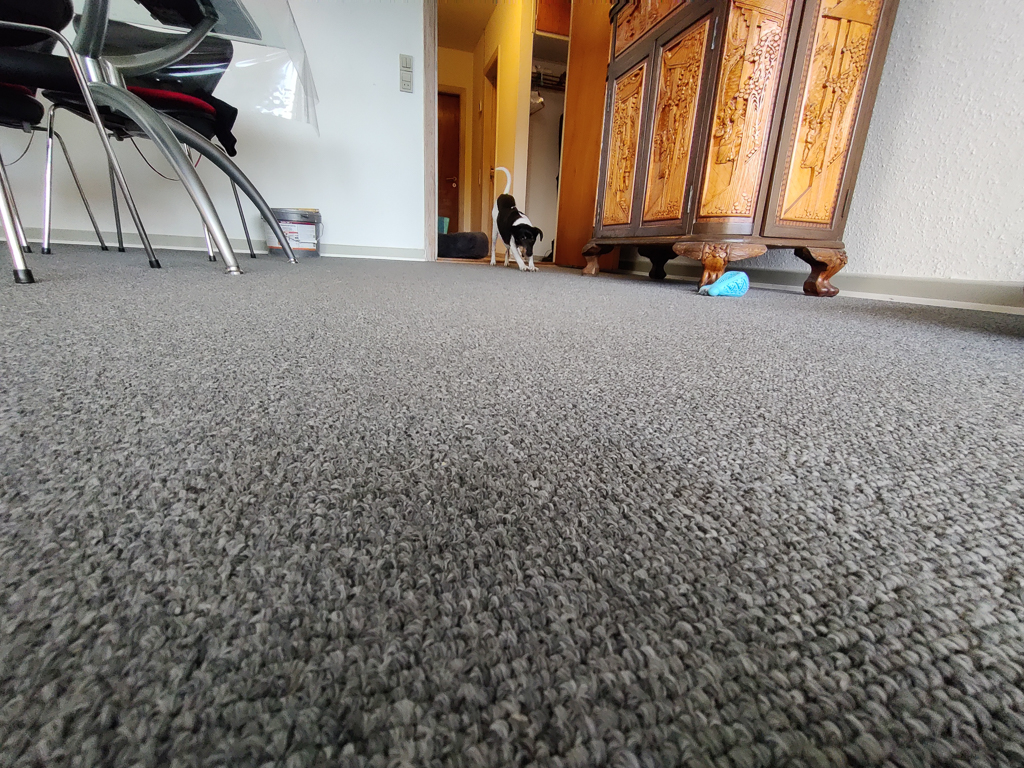Dog: (484, 163, 549, 274)
